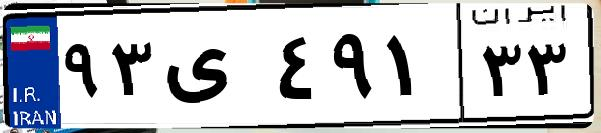1: (385, 28, 445, 110)
3: (475, 38, 525, 113), (525, 38, 570, 115), (110, 28, 158, 98)
4: (270, 28, 330, 110)
9: (330, 28, 385, 110), (57, 26, 110, 100)
ی: (158, 20, 270, 120)
